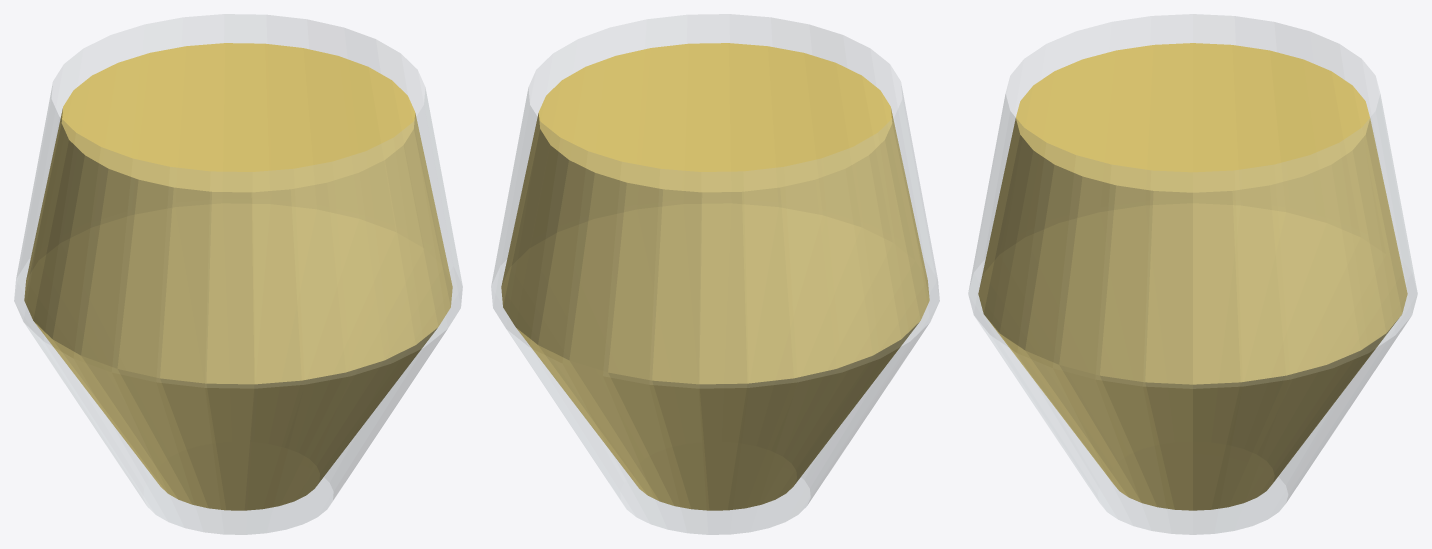
The model's file is glass_coconut.glb.
The picture shows the model from 3 angles, left to right: view 1: azimuth 30°, elevation 25°; view 2: azimuth 150°, elevation 25°; view 3: azimuth 270°, elevation 25°; orthographic projection.
Visible parts, largest first — view 1: LIQUID_SHAPE, GlassBody; view 2: LIQUID_SHAPE, GlassBody; view 3: LIQUID_SHAPE, GlassBody.
Part boxes in pixels (<box>): LIQUID_SHAPE: <box>24,43,452,510</box>; GlassBody: <box>14,14,462,534</box>; LIQUID_SHAPE: <box>501,43,929,510</box>; GlassBody: <box>491,14,939,534</box>; LIQUID_SHAPE: <box>978,43,1407,510</box>; GlassBody: <box>968,14,1417,534</box>.
Size of the model in its own units: 0.132 by 0.13 by 0.132.
